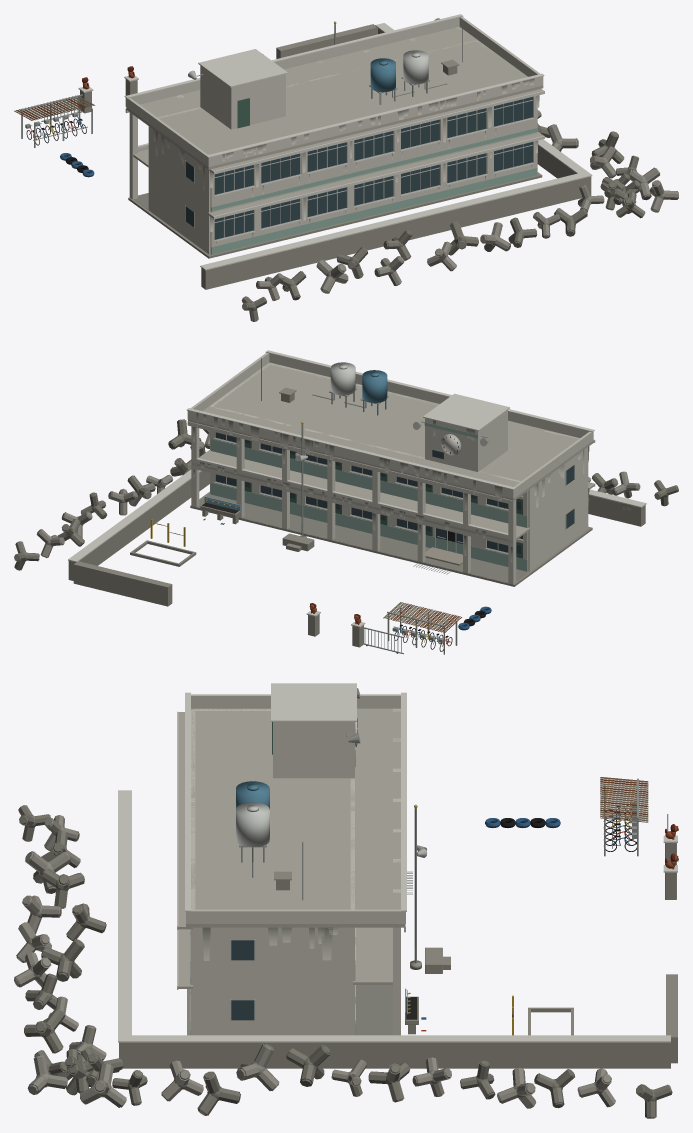
File: minato-school.glb
3 renders of one model, top to bottom at view 1: azimuth 30°, elevation 25°; view 2: azimuth 150°, elevation 25°; view 3: azimuth 270°, elevation 25°, orthographic. The views are drawn at different scales.
Parts seen in each view (by area): view 1: Minato school / matte, Minato school / gloss, Minato school / metal, Minato school / stain; view 2: Minato school / matte, Minato school / gloss, Minato school / stain, Minato school / metal; view 3: Minato school / matte, Minato school / metal, Minato school / stain, Minato school / gloss.
Boxes of the visible parts, x1,y1,x2,y2 form: Minato school / matte: (14, 14, 678, 321); Minato school / gloss: (185, 97, 532, 239); Minato school / metal: (20, 18, 533, 240); Minato school / stain: (153, 78, 539, 245); Minato school / matte: (14, 350, 678, 653); Minato school / gloss: (204, 432, 574, 553); Minato school / stain: (192, 413, 631, 562); Minato school / metal: (152, 358, 574, 654); Minato school / matte: (14, 683, 678, 1118); Minato school / metal: (230, 722, 668, 1020); Minato school / stain: (202, 927, 338, 960); Minato school / gloss: (231, 750, 406, 1020).
Bounding box in the file's own units: 34.65 × 11.13 × 33.25.
